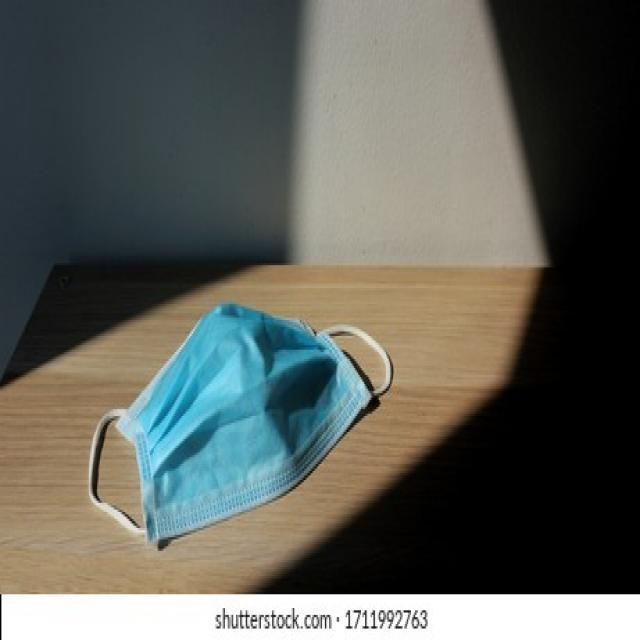face mask: (89, 306, 393, 556)
